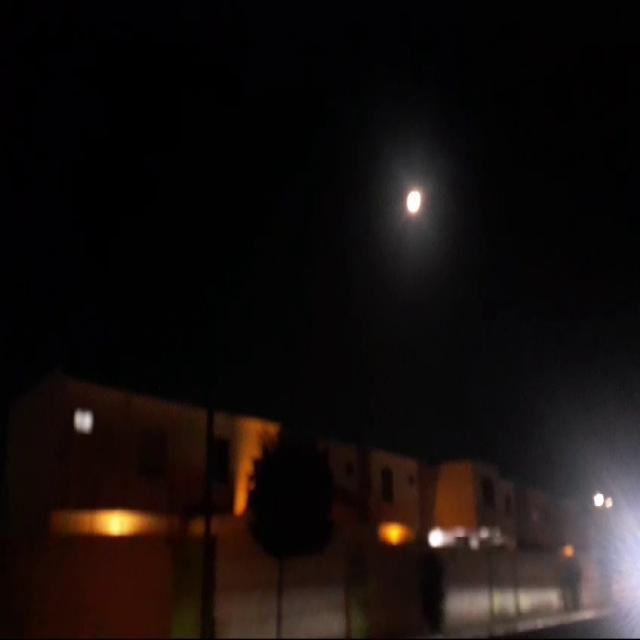moon: (415, 183, 434, 217)
